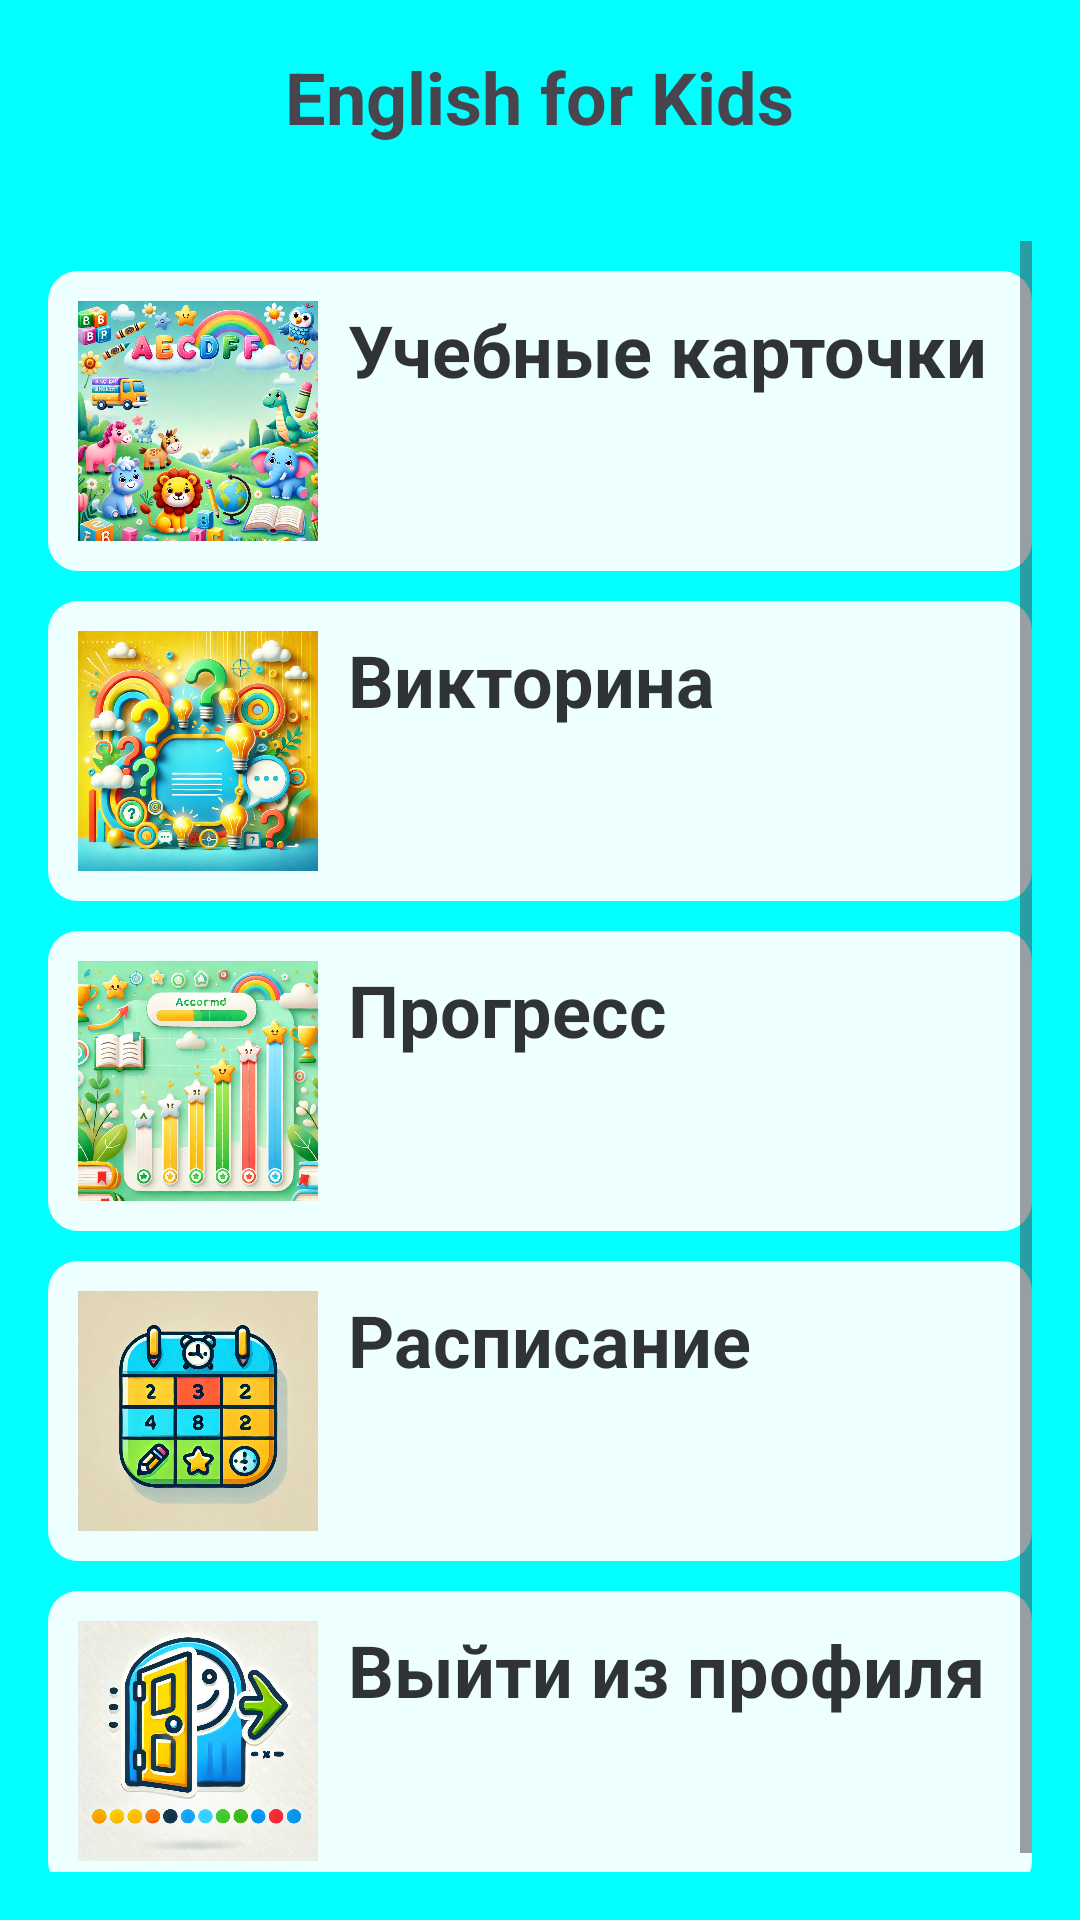

Point at icon controls on the screen. Image size 1080*1920, points as (x=x, y=y).
exit: (x=198, y=1741)
progress: (x=198, y=1081)
raspis: (x=198, y=1411)
viktorina: (x=198, y=751)
